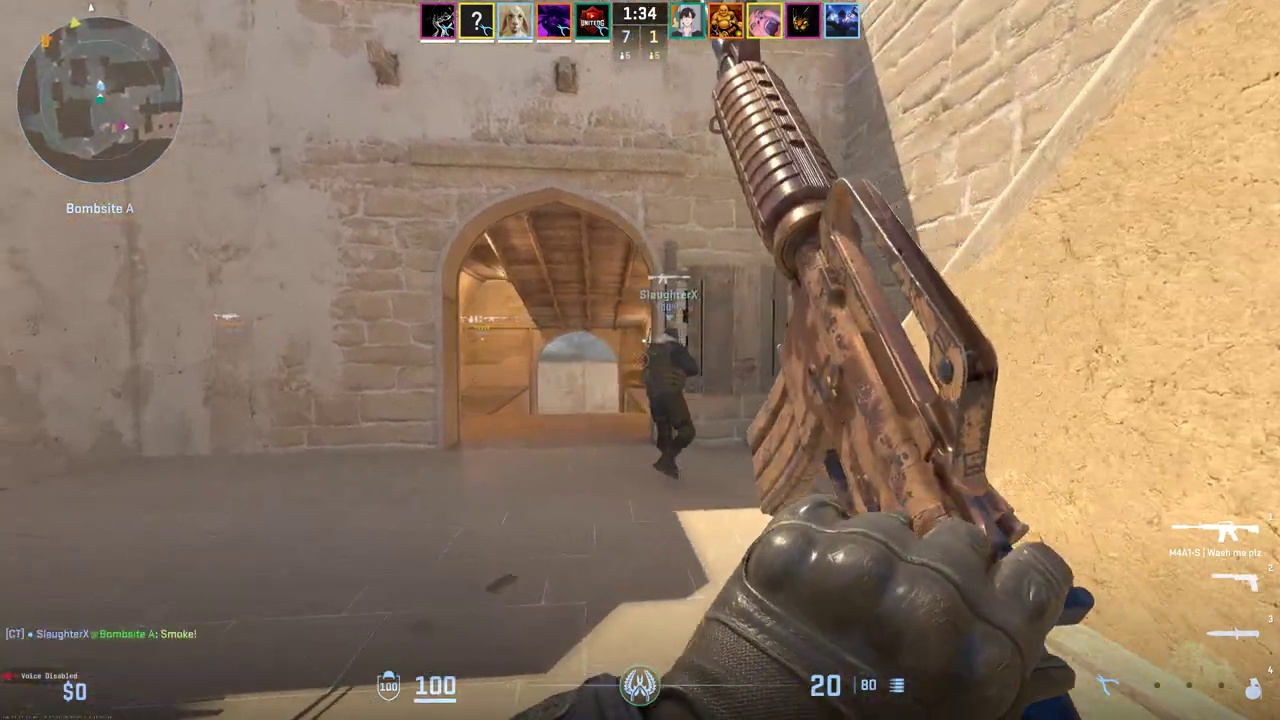CT: (648, 327, 694, 480)
